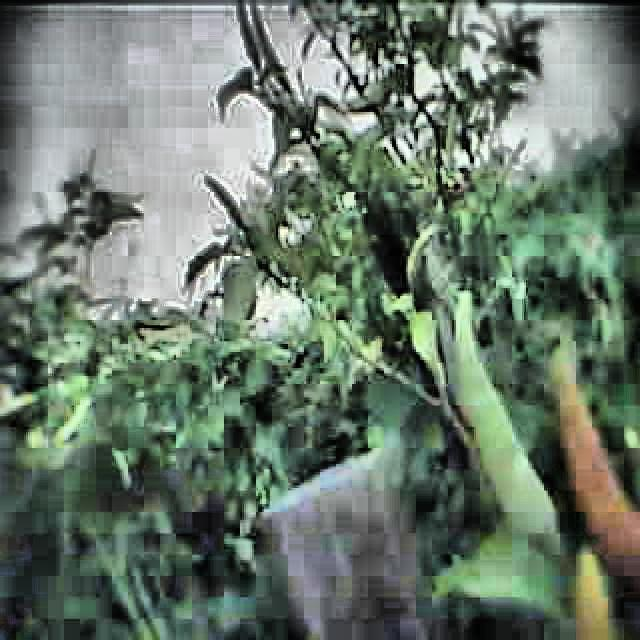Cabai: (556, 357, 640, 547)
